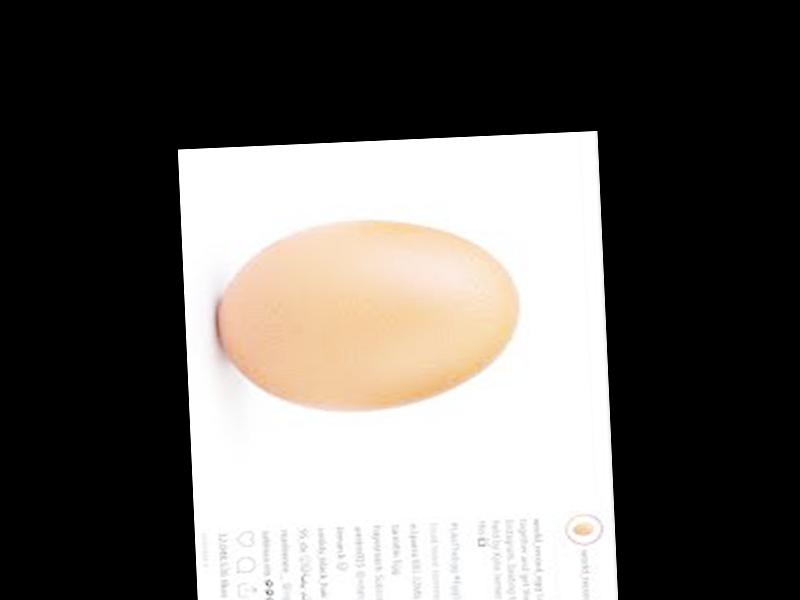Eggs: (216, 211, 523, 416)
